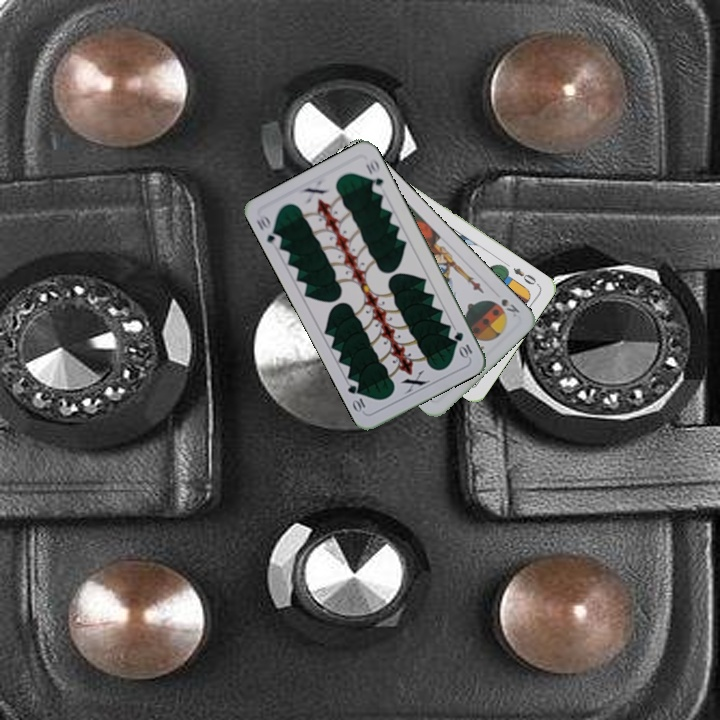EO: (509, 264, 541, 289)
G10: (252, 210, 284, 248), (450, 328, 475, 361)
SK: (490, 295, 522, 316)
